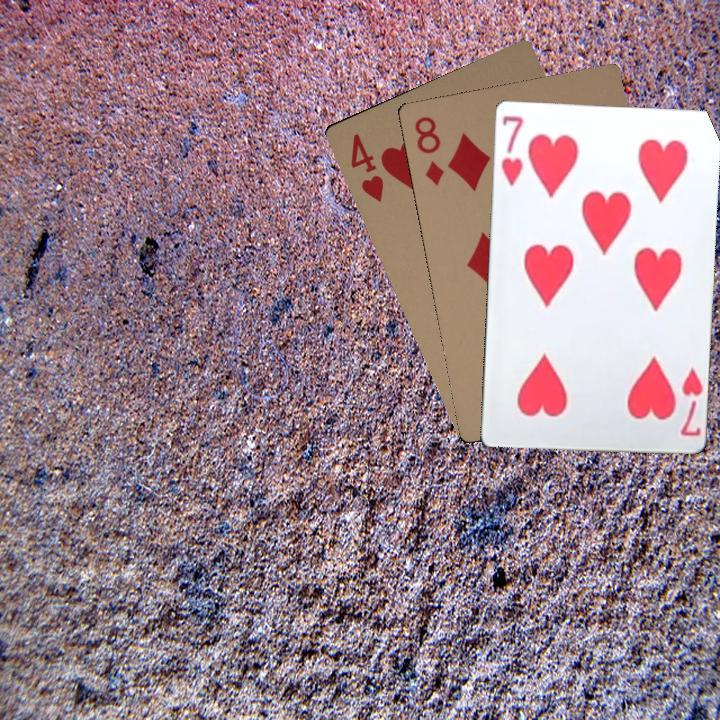4h: (346, 129, 387, 204)
7h: (497, 111, 526, 189), (676, 363, 704, 439)
8d: (410, 112, 447, 188)
